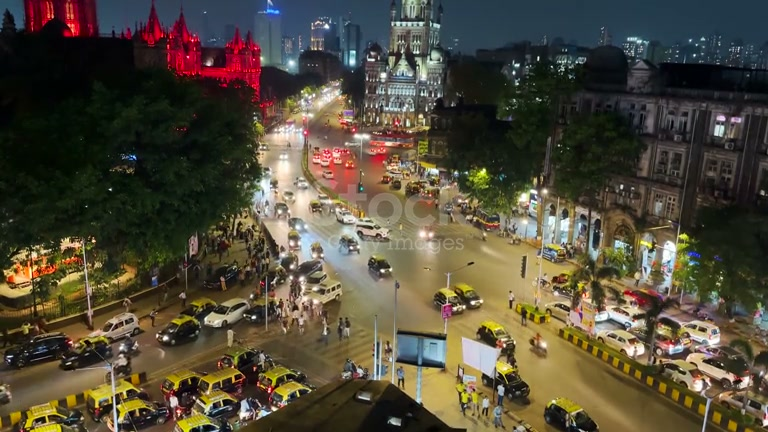car: (4, 334, 73, 369), (475, 320, 517, 369), (543, 396, 600, 432), (59, 339, 114, 371), (204, 298, 248, 330), (156, 315, 201, 346), (102, 312, 141, 340), (680, 320, 720, 347), (174, 414, 223, 432), (452, 283, 483, 310), (367, 255, 394, 279), (0, 383, 12, 405)
pedestrian: (519, 304, 528, 326), (507, 289, 515, 310)
